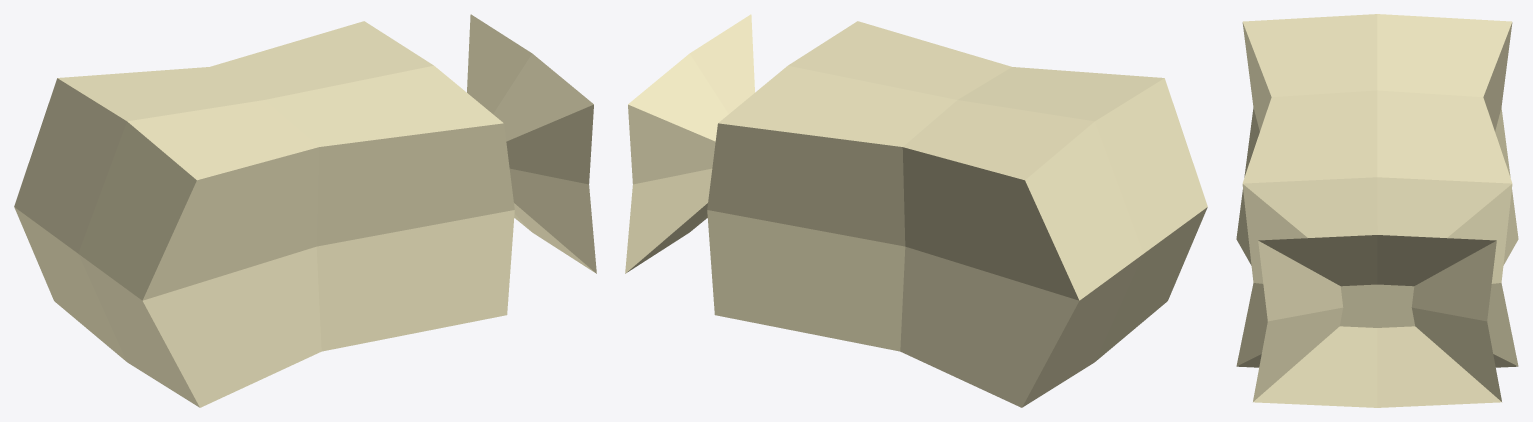
File: Bagged Bread.fbx
3 renders of one model, left to right at view 1: azimuth 30°, elevation 25°; view 2: azimuth 150°, elevation 25°; view 3: azimuth 270°, elevation 25°, orthographic. The views are drawn at different scales.
Parts seen in each view (by area): view 1: Bagged Bread; view 2: Bagged Bread; view 3: Bagged Bread.
Part boxes in pixels (x1,y1,x2,y2): Bagged Bread: [14, 14, 596, 407]; Bagged Bread: [625, 14, 1207, 407]; Bagged Bread: [1236, 14, 1518, 407].
Size of the model in its own units: 27.92 by 14.16 by 15.56.
